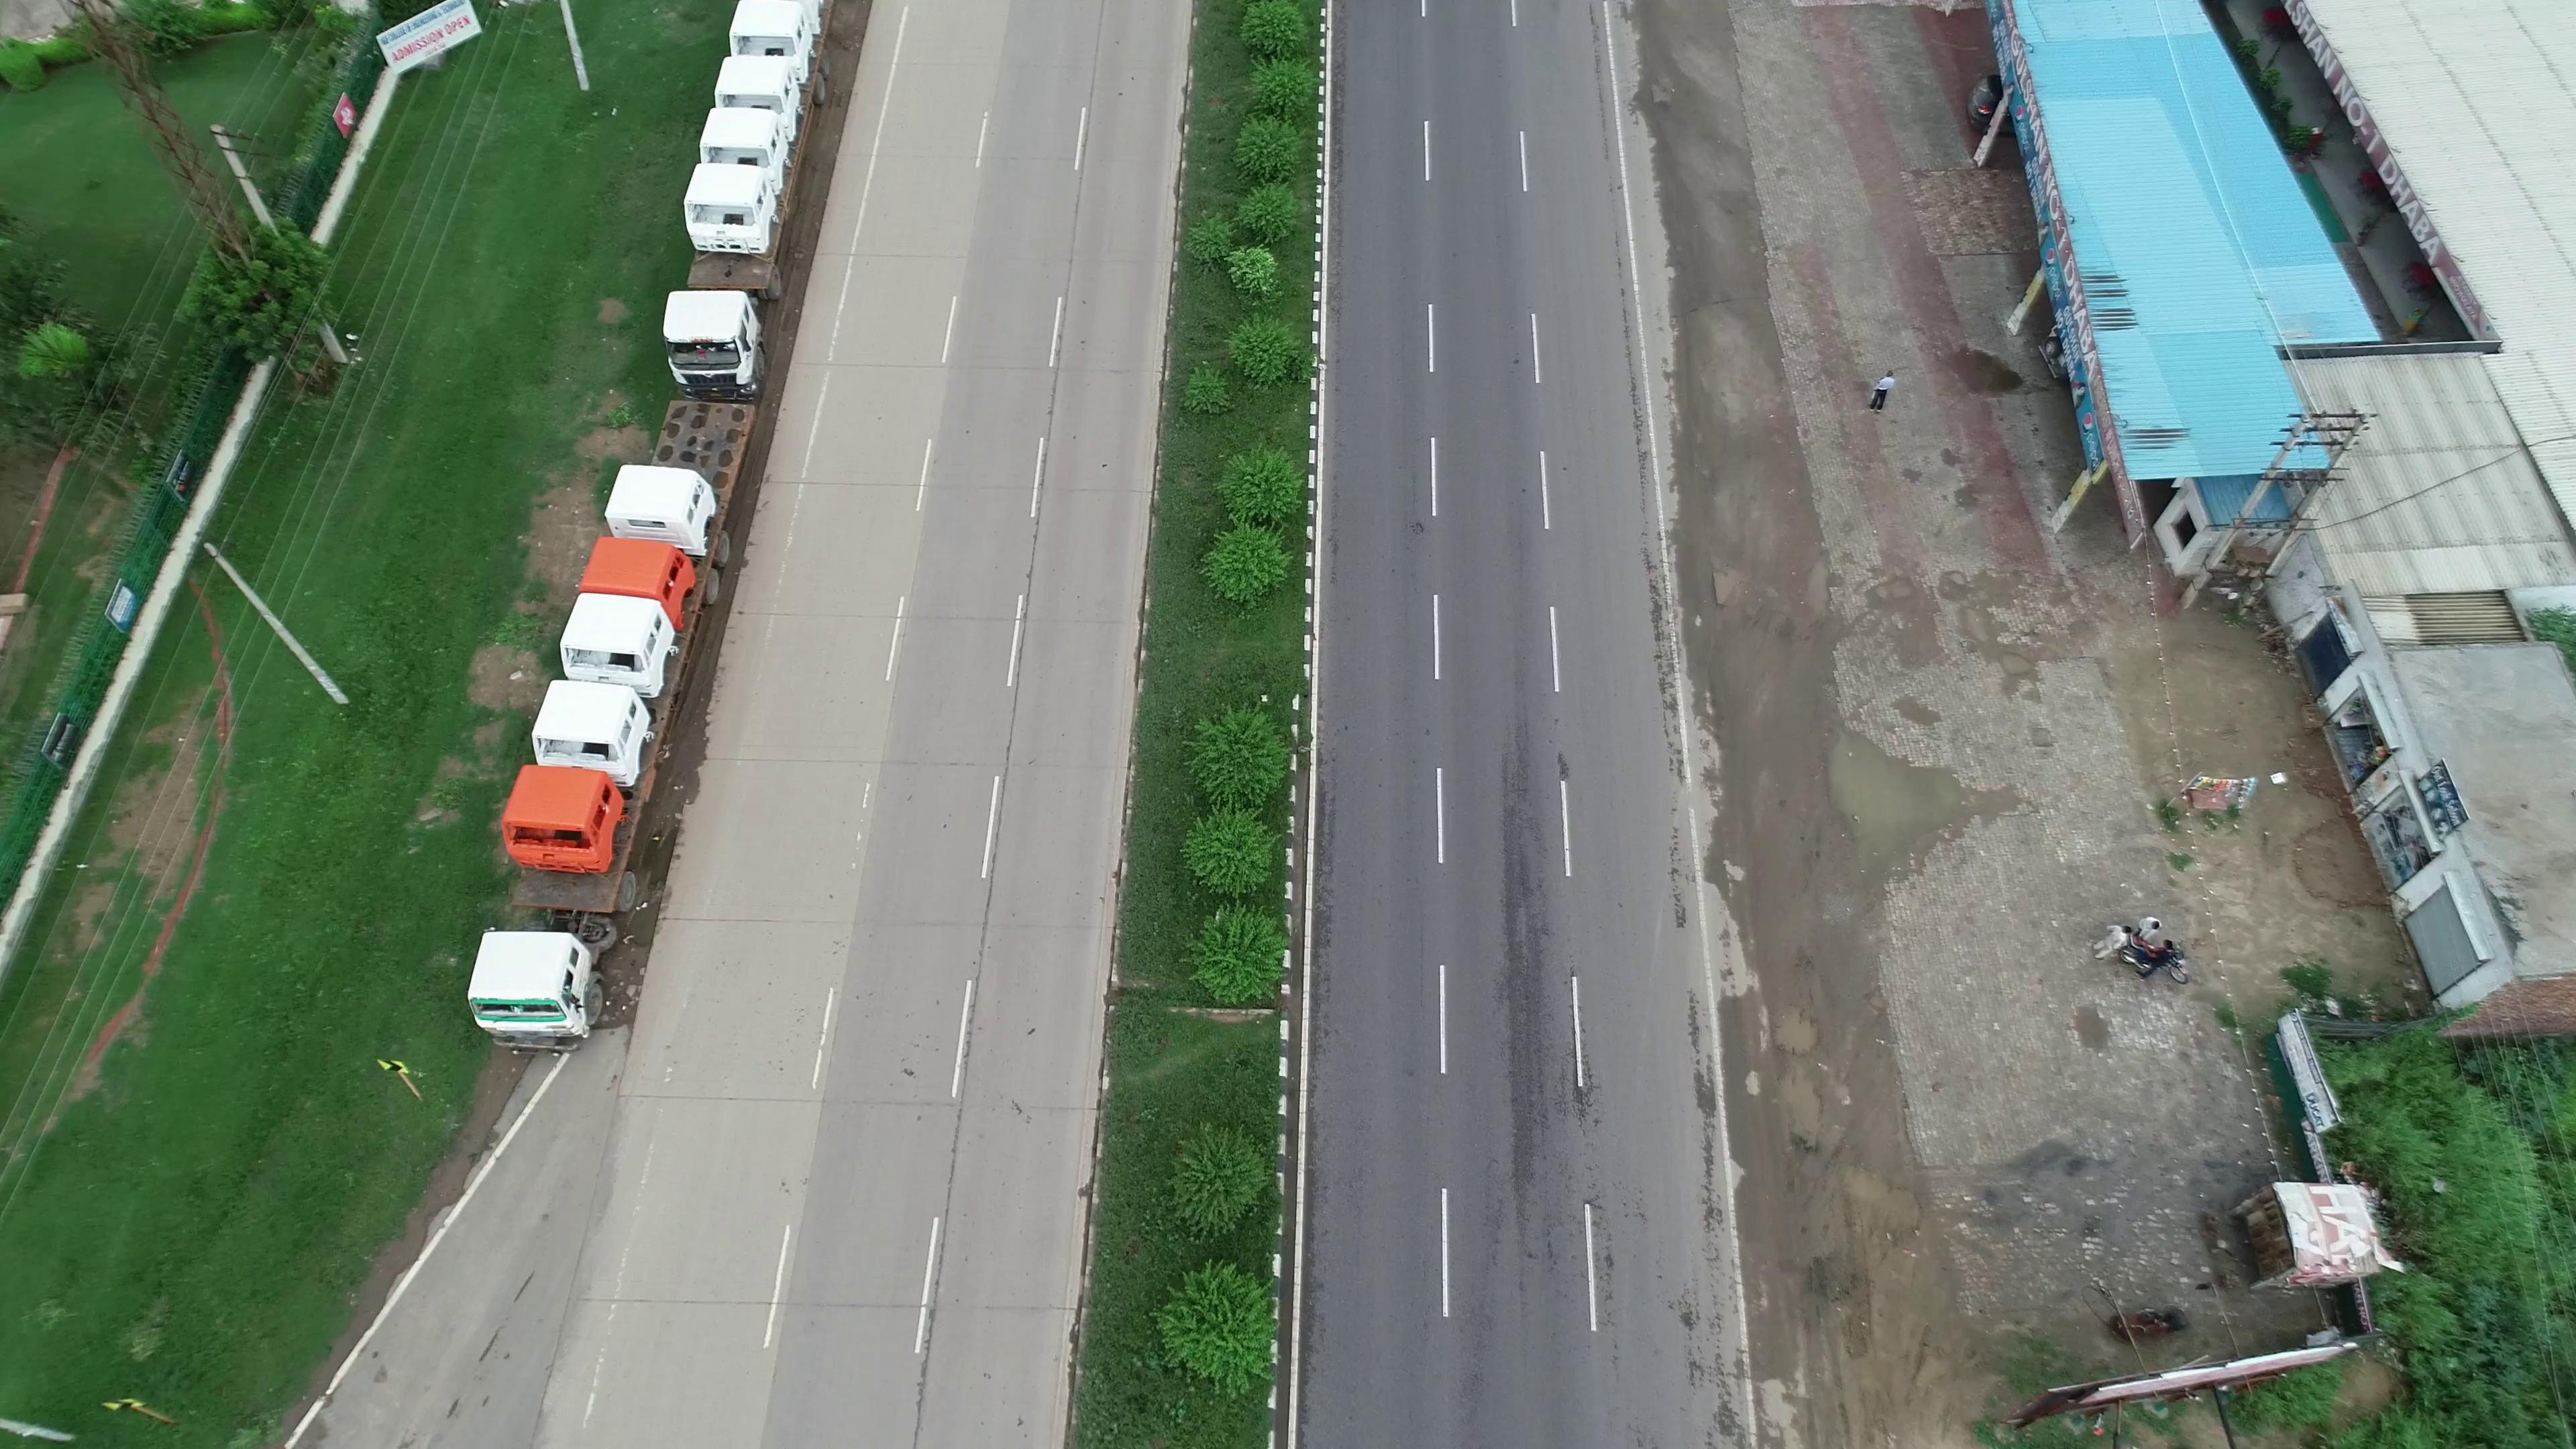Ravelling: (1483, 752, 1559, 1242)
